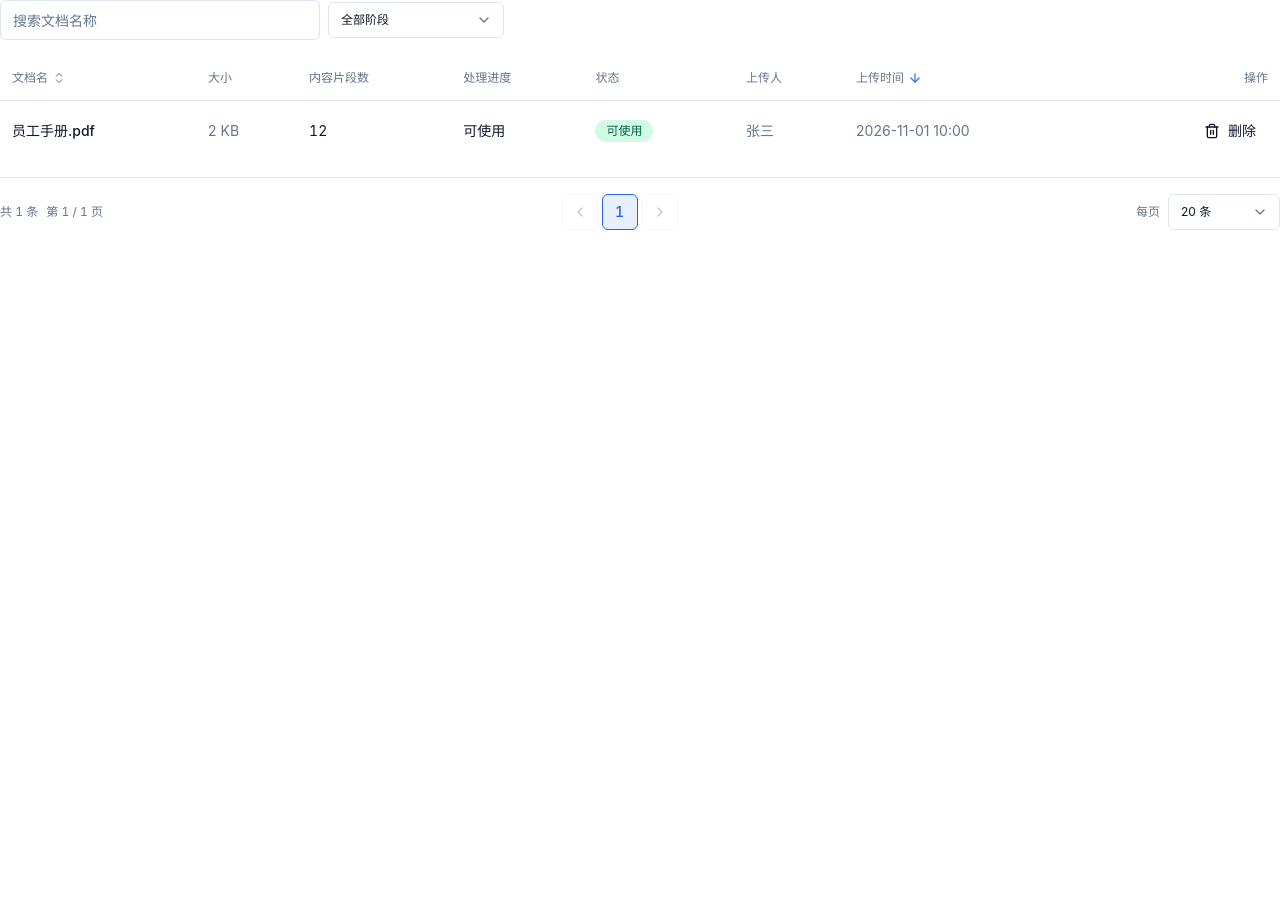
Test case: DocumentTable · 权限与删除 › 删除需二次确认后才调用删除
Later steps or results of the test are not shown.
Click the button with aria-label "删除文档 员工手册.pdf". click: (1230, 130)
box: [1192,112,1268,148]
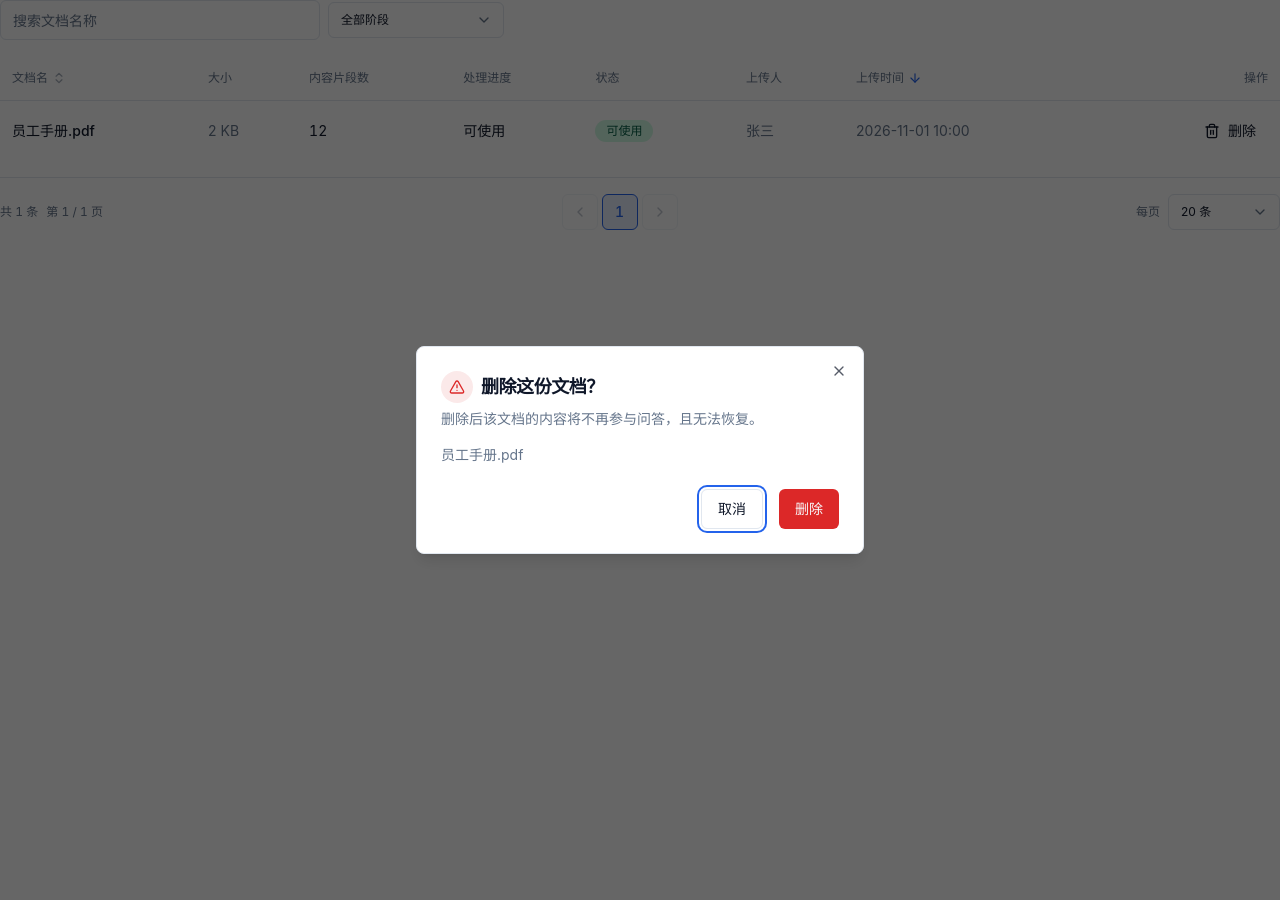
Expected: the text "删除这份文档？" is shown, [481,378,604,396]
